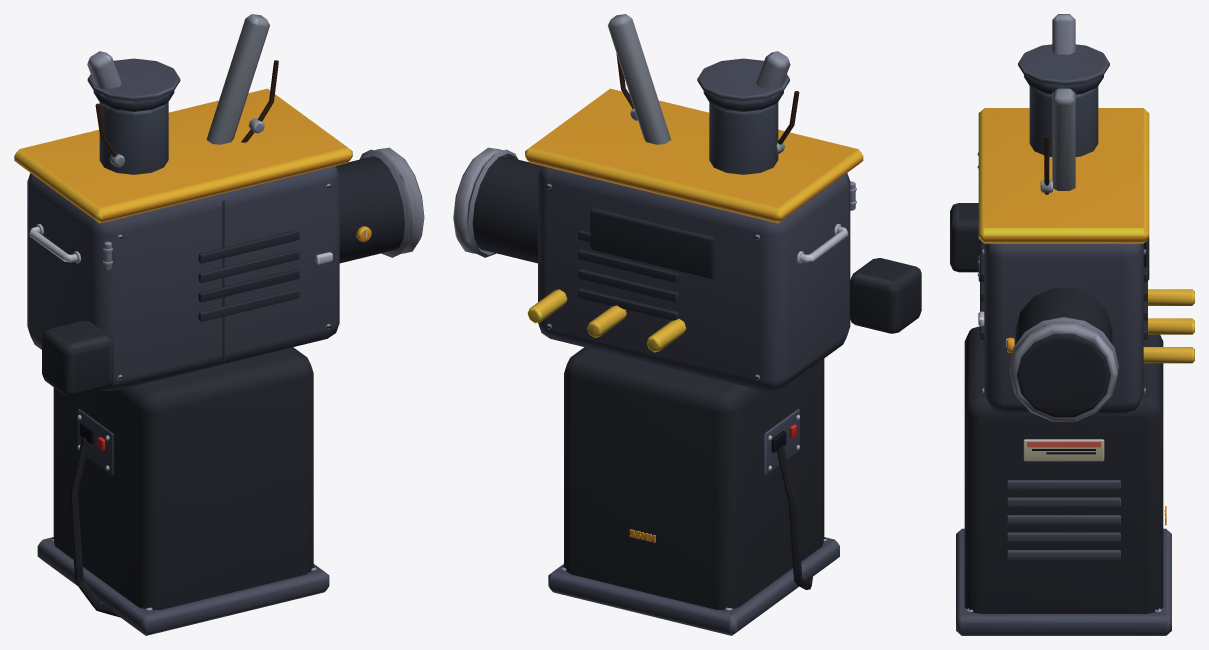
Rendered from SM_Station_Projector.fbx.
3 views of the same model, side by side, from view 1: azimuth 30°, elevation 25°; view 2: azimuth 150°, elevation 25°; view 3: azimuth 270°, elevation 25° (orthographic).
Visible parts, largest first — view 1: SM_Station_Projector; view 2: SM_Station_Projector; view 3: SM_Station_Projector.
Boxes of the visible parts, x1,y1,x2,y2 form: SM_Station_Projector: (14, 14, 424, 635); SM_Station_Projector: (453, 14, 921, 635); SM_Station_Projector: (950, 14, 1194, 635).
Size of the model in its own units: 158 by 209 by 86.18.
